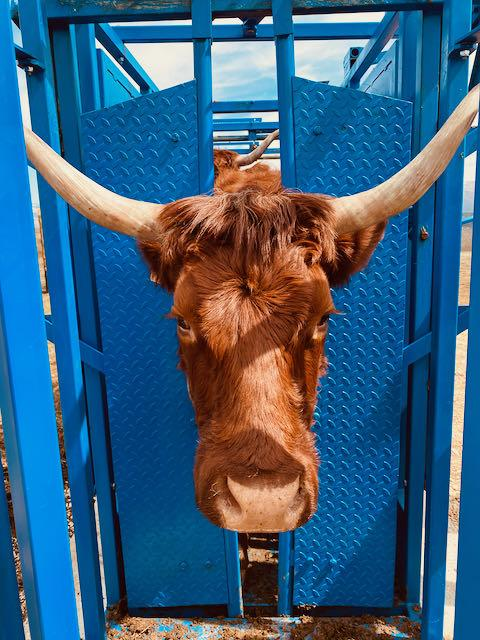muzzles: (203, 458, 319, 538)
